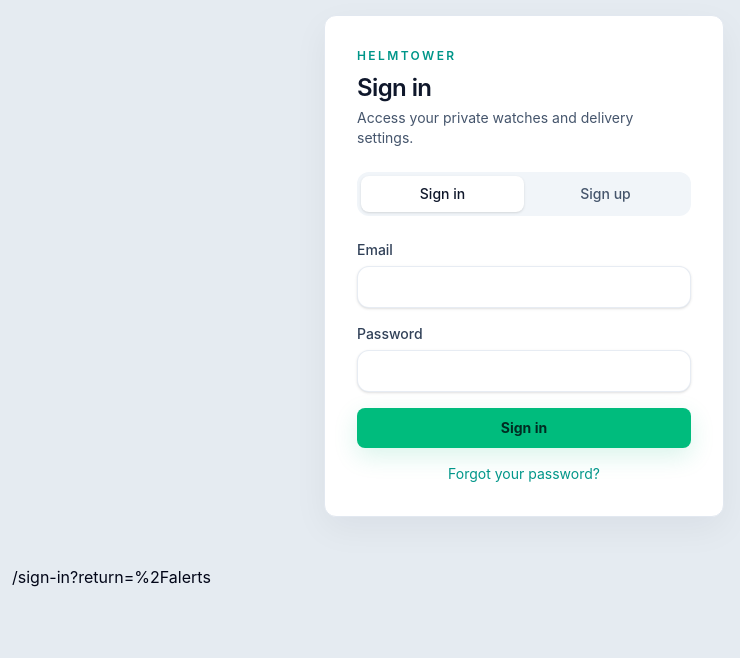
Test: SignIn return navigation › stays on sign-in and shows verify-email detail when login returns 403
Type "user@example.com" into the field labelled "Email" at (524, 287), box x1=357 y1=266 x2=691 y2=308
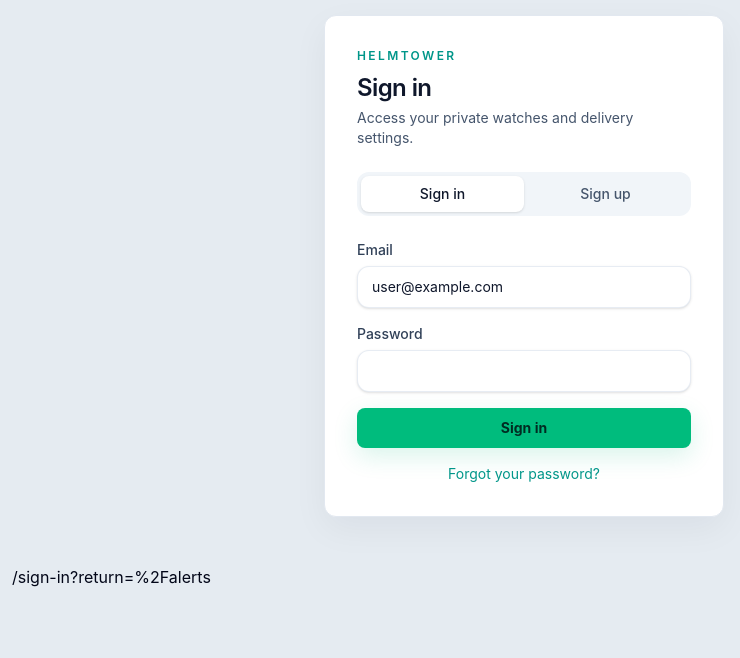
Type "password123" into the password field labelled "Password" at (524, 371), box x1=357 y1=350 x2=691 y2=392
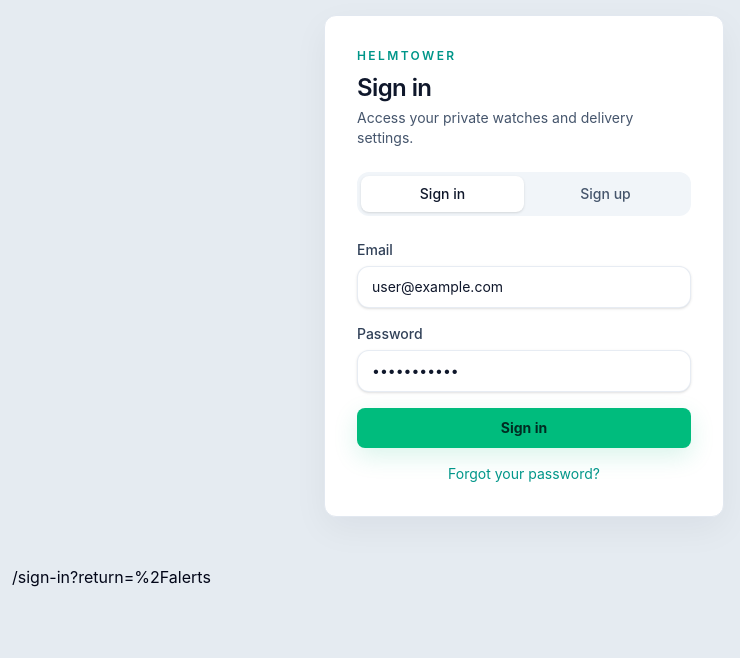
Submit the form named "Authentication form", box x1=357 y1=240 x2=691 y2=484
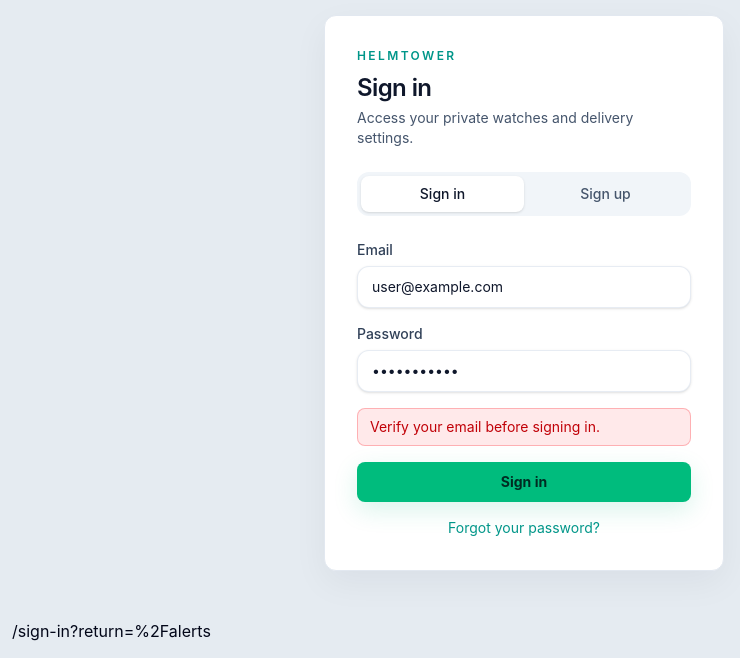
expect the text with test id "location" reads "/sign-in?return=%2Falerts": met, box x1=12 y1=621 x2=211 y2=641
expect the text "Verify your email before signing in." is shown: met, box x1=357 y1=408 x2=691 y2=446
